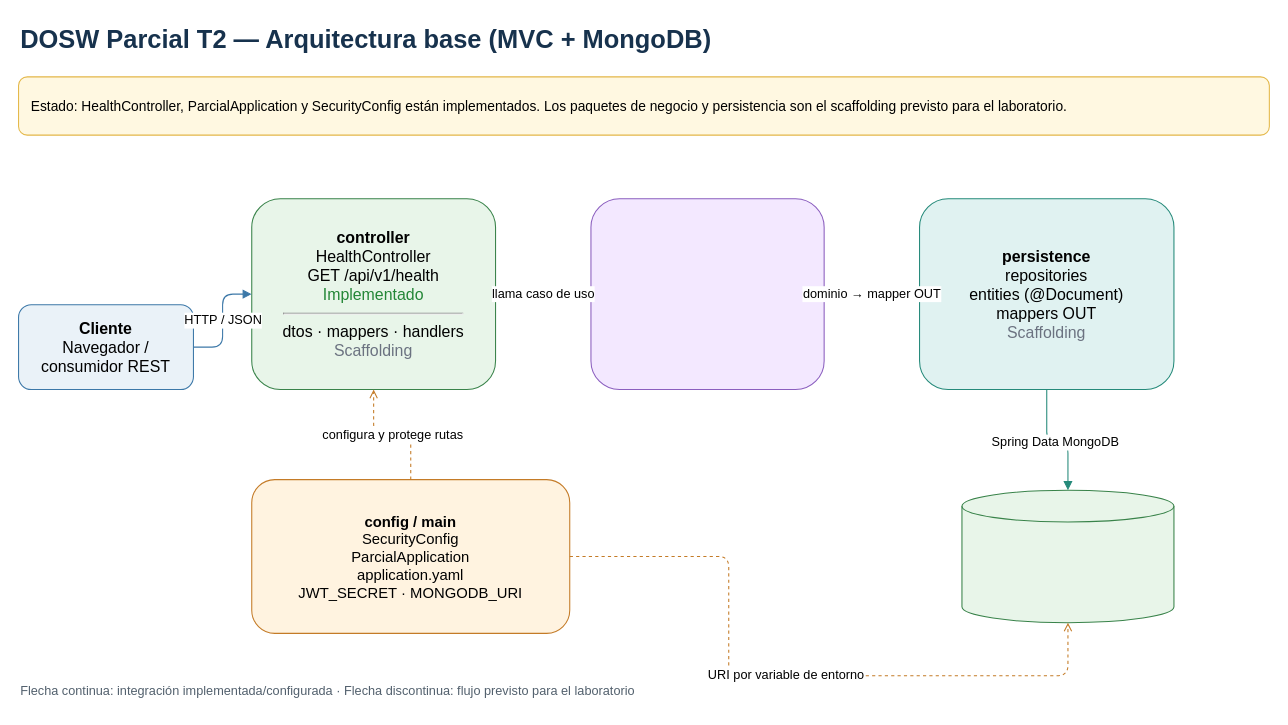
Image size: 1288x725. Some labels were removed from this diagram. Each missing label, with the box of its shape:
core services models · validators · utils Scaffolding: (590, 198, 824, 390)
MongoDB Atlas Cluster dosw-cluster Base dosw_parcial: (961, 489, 1174, 623)
